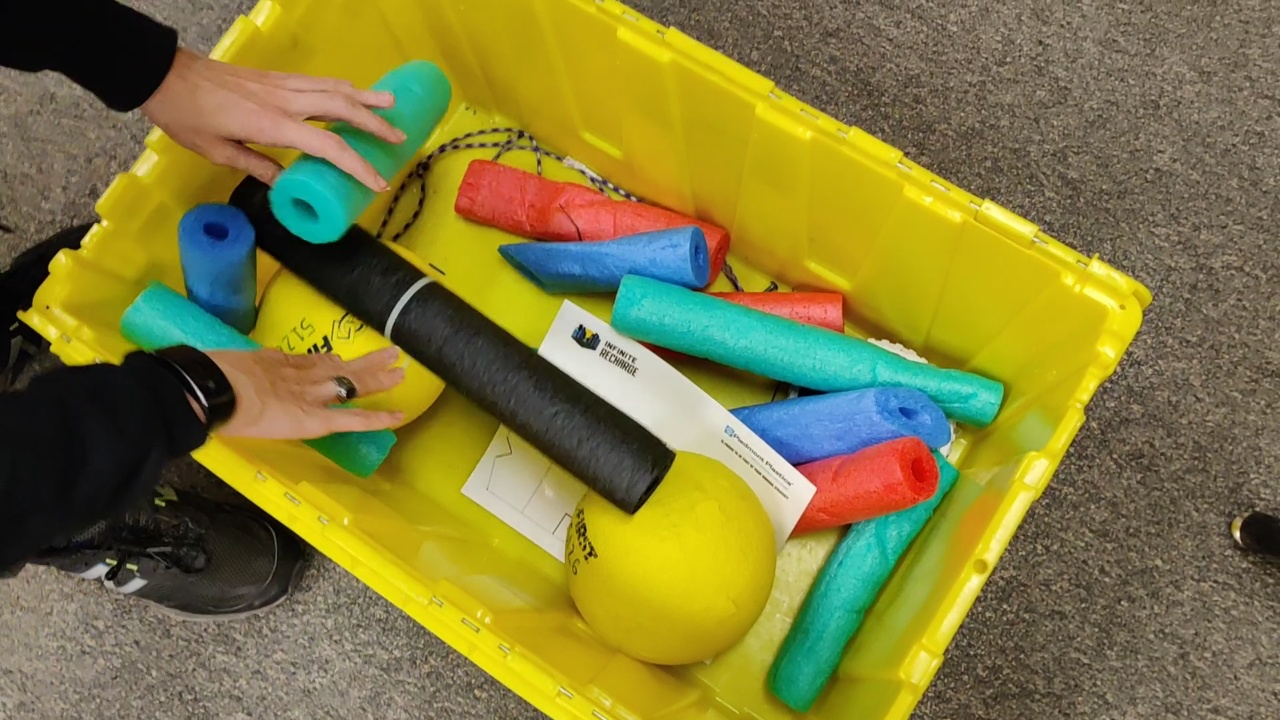Ball: (563, 448, 778, 665), (254, 239, 448, 433)
